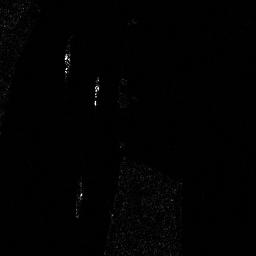ship: (62, 41, 72, 77), (93, 75, 102, 107)
